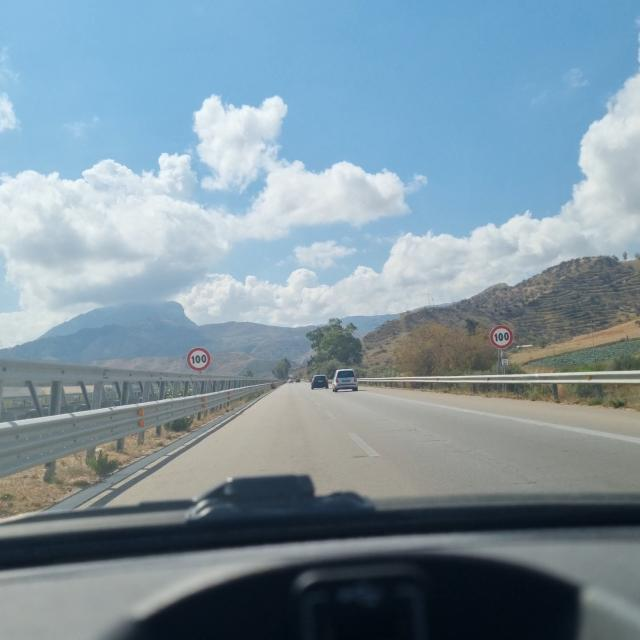forb_speed_over_100: (489, 325, 514, 350), (186, 348, 211, 371)
